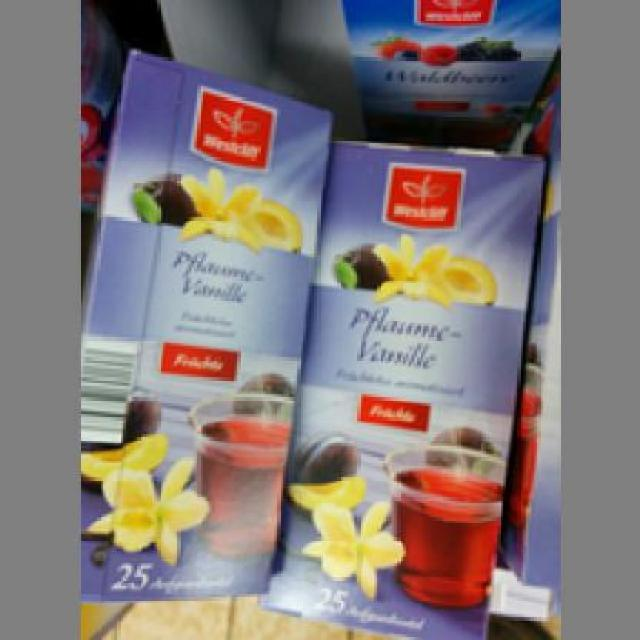Tea: (76, 45, 332, 598), (266, 140, 546, 637)
